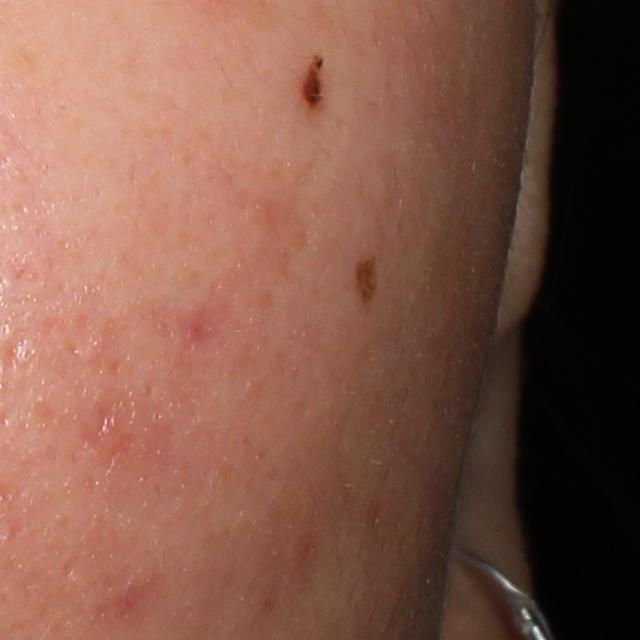atrophic_scar: (1, 324, 32, 365)
nevus: (300, 50, 326, 111), (354, 255, 378, 304)
